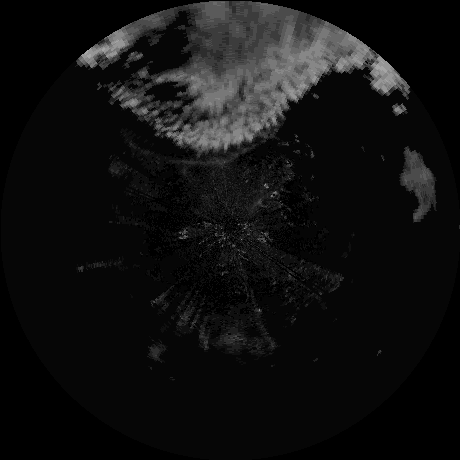frontgust: (171, 140, 266, 167)
